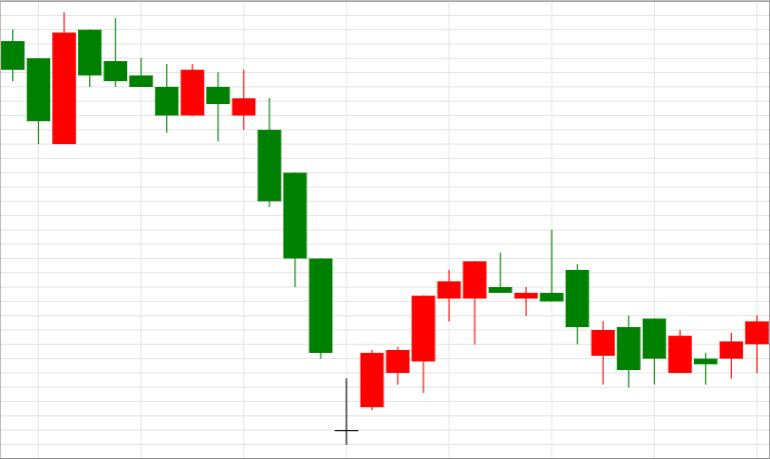evening_star_fall: (206, 69, 383, 446)
